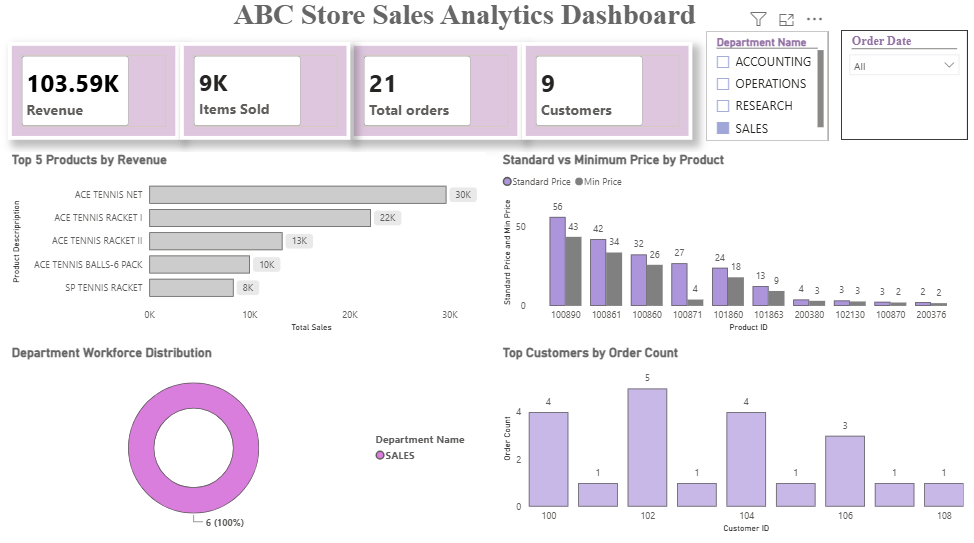

What the dashboard file says about the page in this screenshot:
{"tool":"powerbi","page":{"name":"Page 1","canvas":[1280,720],"ordinal":0},"visuals":[{"type":"textbox","box":[0,0,1224,72],"z":0},{"type":"cardVisual","fields":{"Data":["O_CUSTOMER.Total Revenues"]},"box":[14.4,63.4,224.6,128.2],"z":1000},{"type":"cardVisual","fields":{"Data":["O_CUSTOMER.Total orders"]},"box":[462.2,63.4,224.6,128.2],"z":2000},{"type":"cardVisual","fields":{"Data":["O_CUSTOMER.Customers"]},"box":[686.9,63.4,223.2,128.2],"z":3000},{"type":"cardVisual","fields":{"Data":["O_CUSTOMER.Items Sold"]},"box":[239,63.4,223.2,128.2],"z":4000},{"type":"slicer","fields":{"Values":["O_ORD.ORDERDATE"]},"box":[1104.5,47.5,165.6,144],"z":5000},{"type":"slicer","fields":{"Values":["O_DEPT.DNAME"]},"box":[928,48,160,144],"z":6000},{"type":"clusteredBarChart","title":"Top 5 Products by Revenue","fields":{"Category":["O_PRODUCT.DESCRIP"],"Y":["Sum(O_ITEM.ITEMTOT)"]},"box":[14.4,207.4,625,240.5],"z":7000},{"type":"clusteredColumnChart","title":"Top Customers by Order Count","fields":{"Category":["O_CUSTOMER.CUSTID"],"Y":["O_CUSTOMER.Order Count"]},"box":[656.6,459.4,613.4,250.6],"z":8000},{"type":"donutChart","title":"Department Workforce Distribution","fields":{"Category":["O_DEPT.DNAME"],"Y":["Count(O_EMP.EMPNO)"]},"box":[14.4,459.4,625,250.6],"z":9000},{"type":"clusteredColumnChart","title":"Standard vs Minimum Price by Product","fields":{"Y":["Avg(O_PRICE.STDPRICE)","Avg(O_PRICE.MINPRICE)"],"Category":["O_PRICE.PRODID"]},"box":[656.6,207.4,613.4,240.5],"z":10000}]}

Visuals, with their boxes in screenshot pixels (x1, y1, x2, y2), scaled from the page's 1280x720 canvas onto the 974x543 screenshot:
textbox: pyautogui.locateOnScreen(0, 0, 931, 54)
cardVisual - O_CUSTOMER.Total Revenues: pyautogui.locateOnScreen(11, 48, 182, 144)
cardVisual - O_CUSTOMER.Total orders: pyautogui.locateOnScreen(352, 48, 523, 144)
cardVisual - O_CUSTOMER.Customers: pyautogui.locateOnScreen(523, 48, 693, 144)
cardVisual - O_CUSTOMER.Items Sold: pyautogui.locateOnScreen(182, 48, 352, 144)
slicer - O_ORD.ORDERDATE: pyautogui.locateOnScreen(840, 36, 966, 144)
slicer - O_DEPT.DNAME: pyautogui.locateOnScreen(706, 36, 828, 145)
"Top 5 Products by Revenue" clusteredBarChart: pyautogui.locateOnScreen(11, 156, 487, 338)
"Top Customers by Order Count" clusteredColumnChart: pyautogui.locateOnScreen(500, 346, 966, 535)
"Department Workforce Distribution" donutChart: pyautogui.locateOnScreen(11, 346, 487, 535)
"Standard vs Minimum Price by Product" clusteredColumnChart: pyautogui.locateOnScreen(500, 156, 966, 338)
